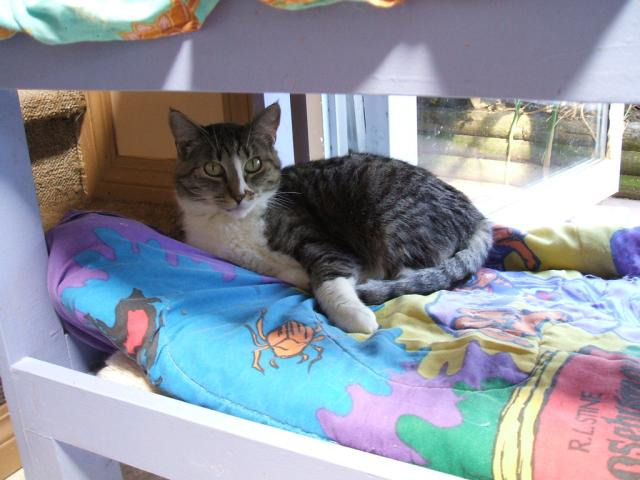Cat: (164, 98, 496, 334)
